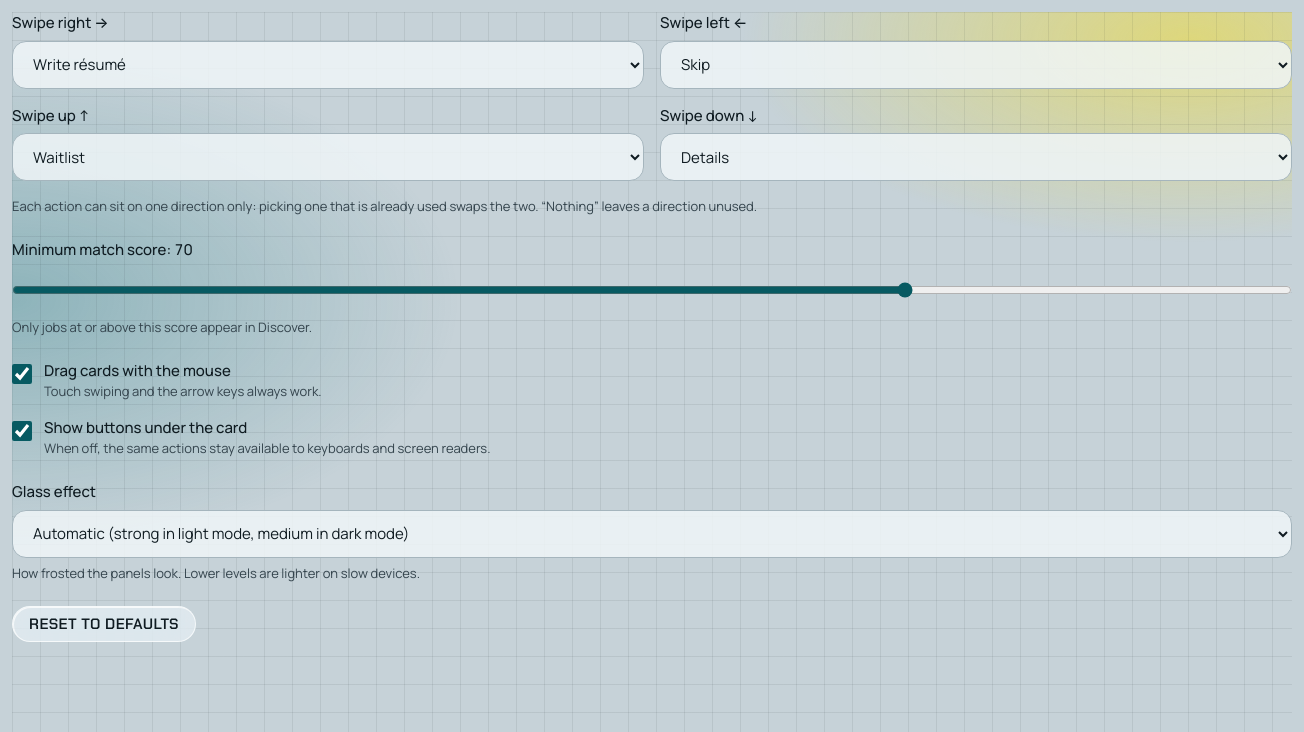
DeckSettings › saves a remapped direction (swapping the other one) at once
This screenshot has width=1304, height=732.
Select "Skip" in the dropdown labelled "Swipe right →" at (328, 64), box [12,40,644,88]
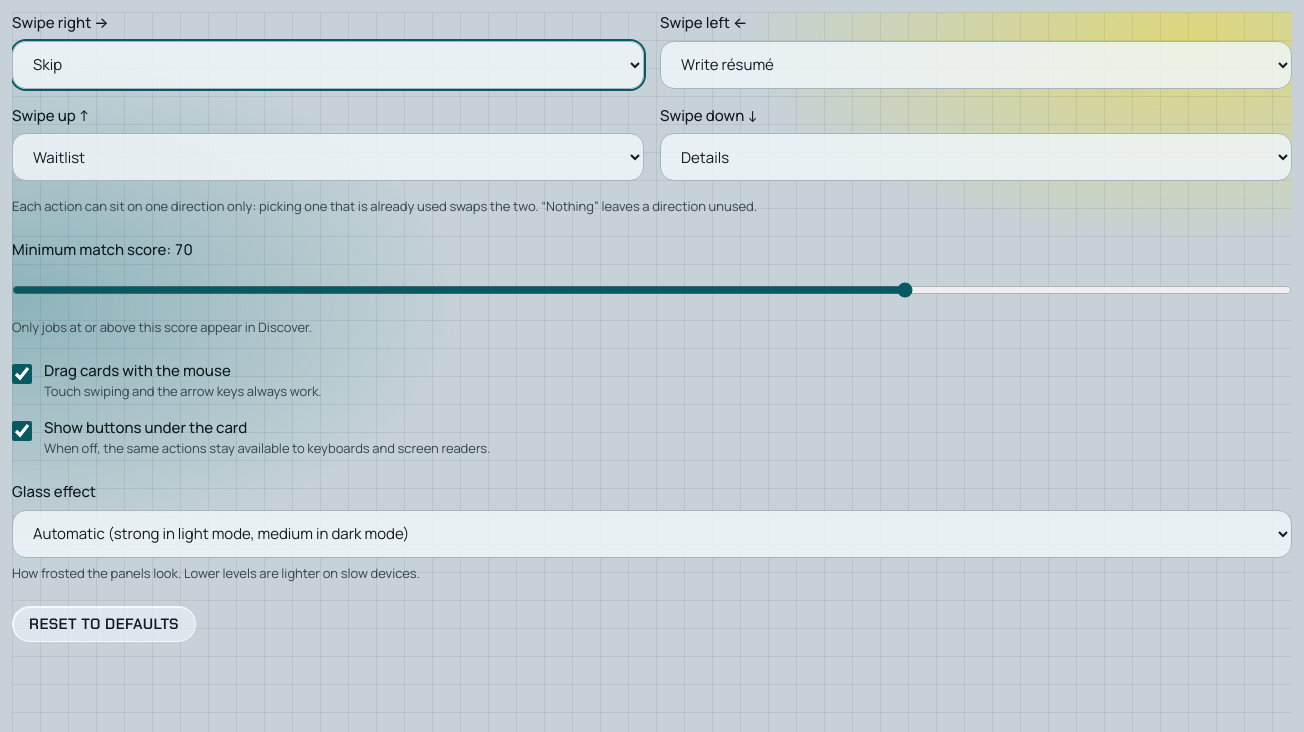
Check: the dropdown labelled "Swipe left ←" shows "Write résumé", box [660,40,1292,88]
